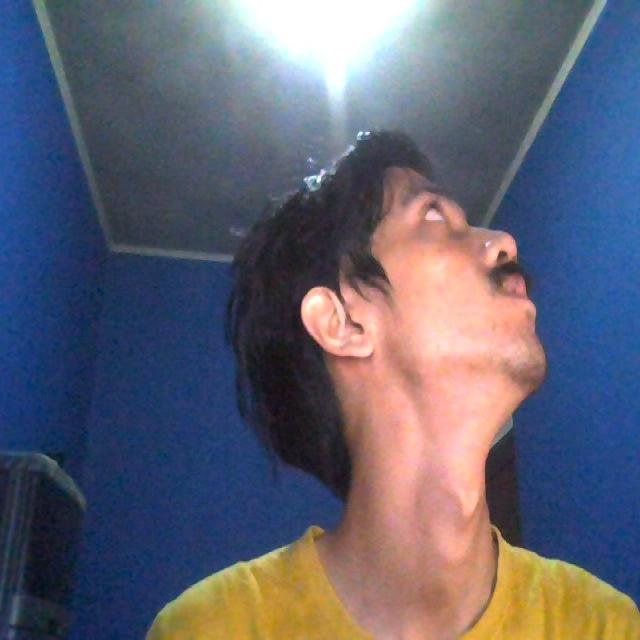melihat kekiri: (196, 130, 564, 465)
